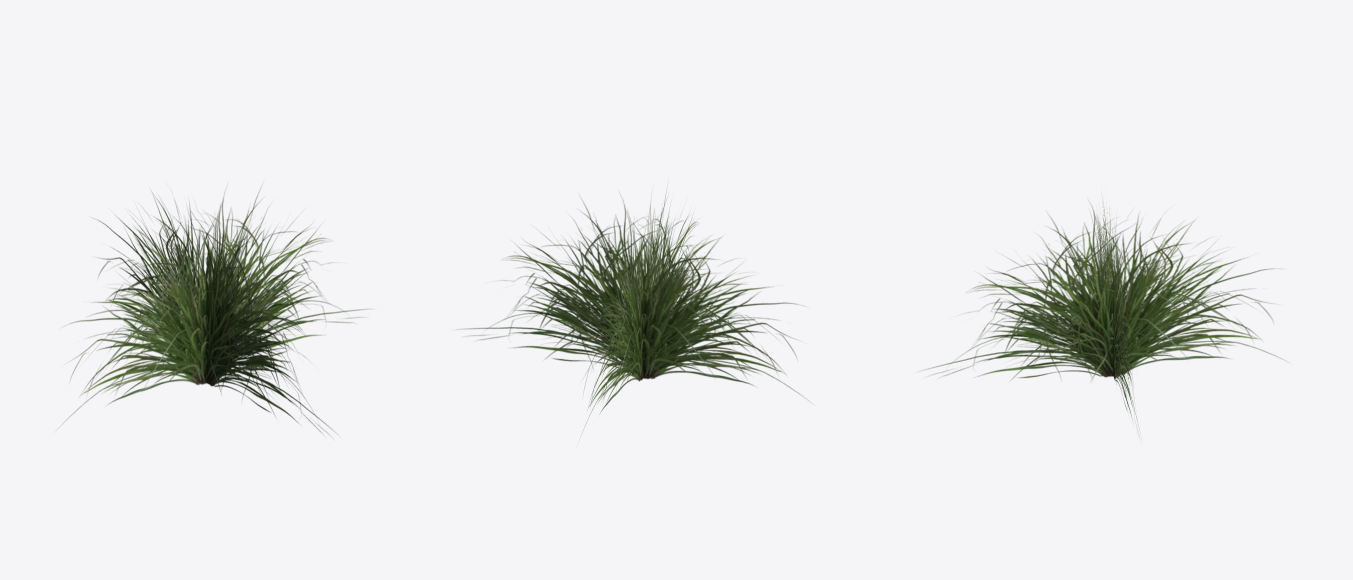
File: forest-mountains-card-a.glb
3 renders of one model, left to right at view 1: azimuth 30°, elevation 25°; view 2: azimuth 150°, elevation 25°; view 3: azimuth 270°, elevation 25°, orthographic. The views are drawn at different scales.
Visible parts, largest first — view 1: Plane2373; view 2: Plane2373; view 3: Plane2373.
Boxes of the visible parts, x1=… form: Plane2373: x1=66, y1=186, x2=367, y2=433; Plane2373: x1=463, y1=195, x2=805, y2=427; Plane2373: x1=922, y1=204, x2=1283, y2=429.
Bounding box in the file's own units: 9.48 × 8.4 × 9.48.
Materials: 1 (1 with a texture image).
